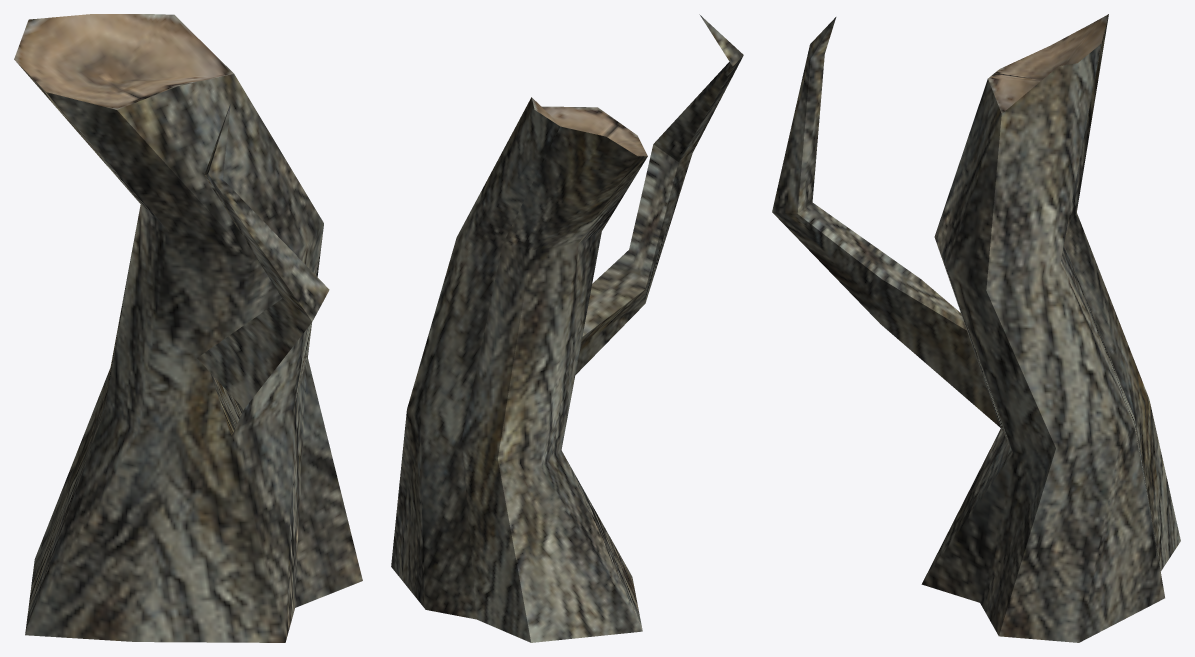
The model's file is Pen_3.fbx.
3 views of the same model, side by side, from view 1: azimuth 30°, elevation 25°; view 2: azimuth 150°, elevation 25°; view 3: azimuth 270°, elevation 25° (orthographic). The views are drawn at different scales.
Parts seen in each view (by area): view 1: Detal322; view 2: Detal322; view 3: Detal322.
Boxes of the visible parts, x1,y1,x2,y2 form: Detal322: [14, 14, 362, 642]; Detal322: [391, 14, 743, 642]; Detal322: [772, 14, 1180, 642].
Size of the model in its own units: 550 by 1086 by 751.
